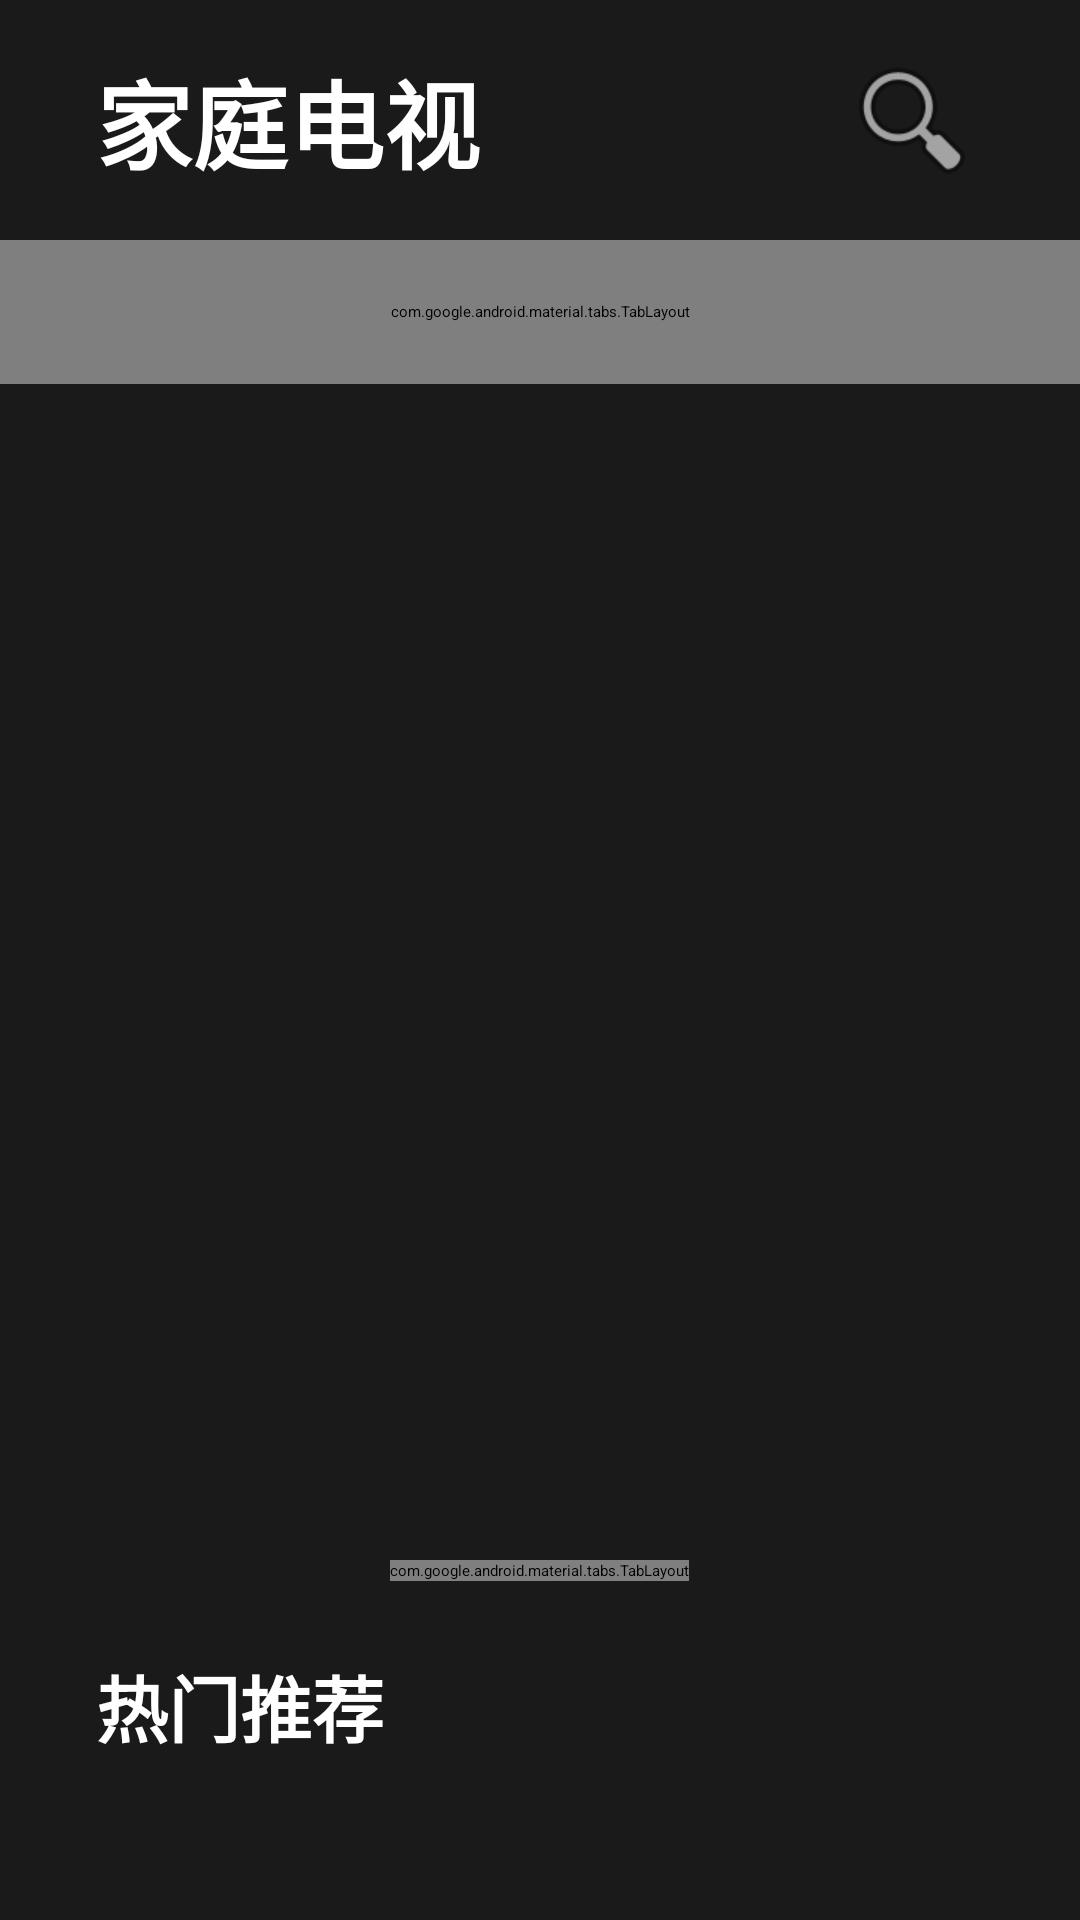

Named icons in this screenshot (1080w x 1920h) and their bounding boxes, (x1, y1, x2, y2):
搜索: (863, 72, 961, 170)
